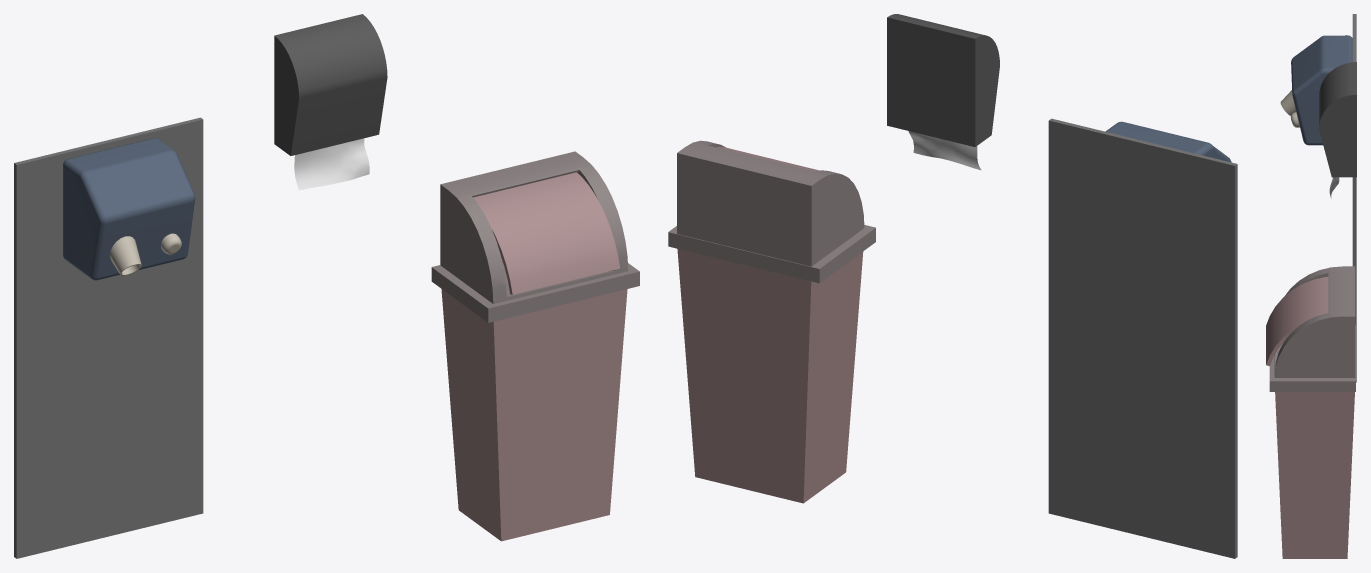
The model's file is poubelle_secheMains_FBX.fbx.
The picture shows the model from 3 angles, left to right: view 1: azimuth 30°, elevation 25°; view 2: azimuth 150°, elevation 25°; view 3: azimuth 270°, elevation 25°; orthographic projection. The views are drawn at different scales.
Parts seen in each view (by area): view 1: poubelle_secheMains; view 2: poubelle_secheMains; view 3: poubelle_secheMains.
Part boxes in pixels (x1,y1,x2,y2): poubelle_secheMains: (14,14,639,558); poubelle_secheMains: (668,14,1237,558); poubelle_secheMains: (1266,14,1356,558).
Bounding box in the file's own units: 305 × 263 × 55.39.
